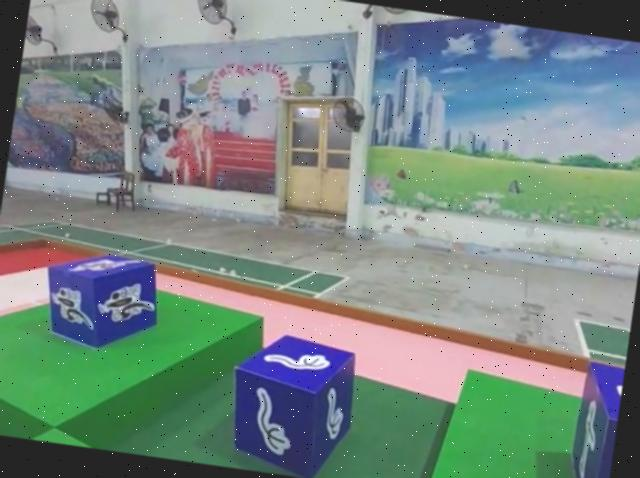R1 Blue: (35, 247, 164, 357)
R2 Real Blue: (221, 330, 361, 478), (566, 362, 625, 478)
